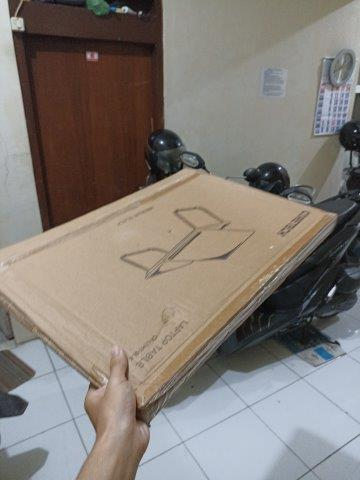kardus: (4, 168, 335, 409)
